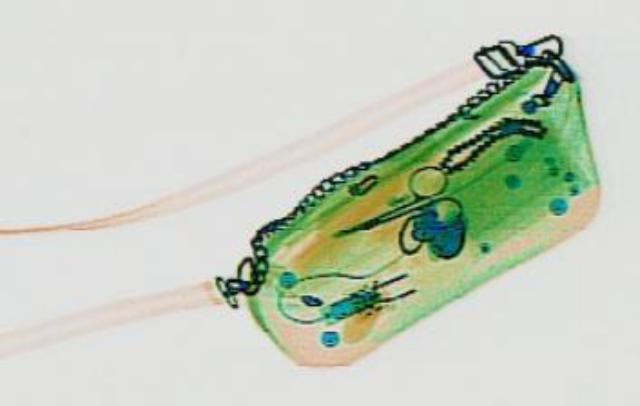Scissors: (308, 160, 486, 254)
